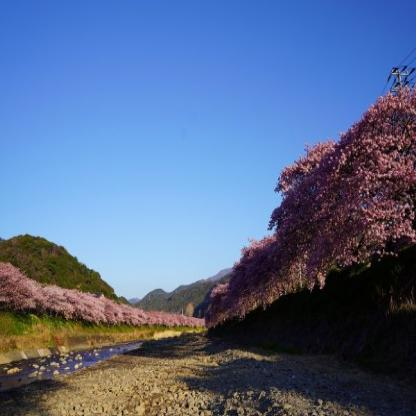KawazuSakura: (203, 76, 415, 332), (0, 260, 205, 328)
